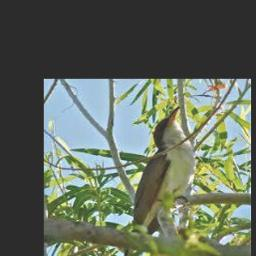Cuckoo: (113, 106, 195, 256)
